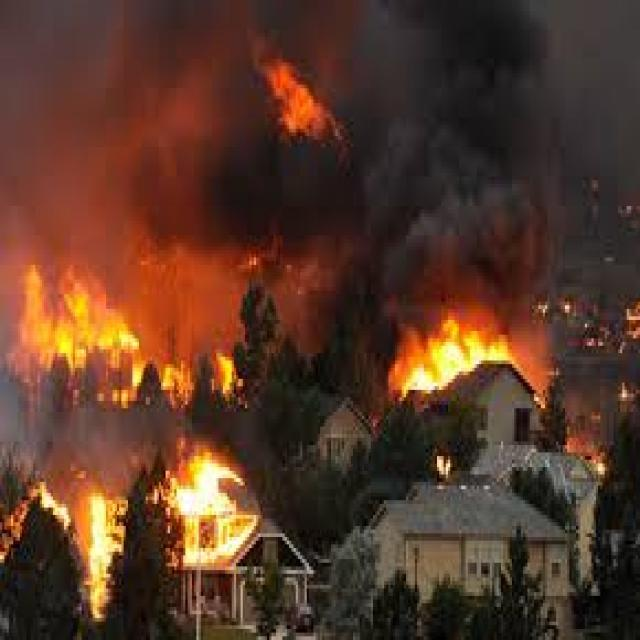Fire: (10, 282, 132, 384), (402, 318, 512, 406), (175, 450, 238, 540), (85, 488, 112, 602), (38, 482, 76, 530), (152, 363, 182, 411), (209, 351, 239, 394)
Smoke: (111, 0, 563, 401), (0, 15, 323, 351), (0, 378, 190, 495)
